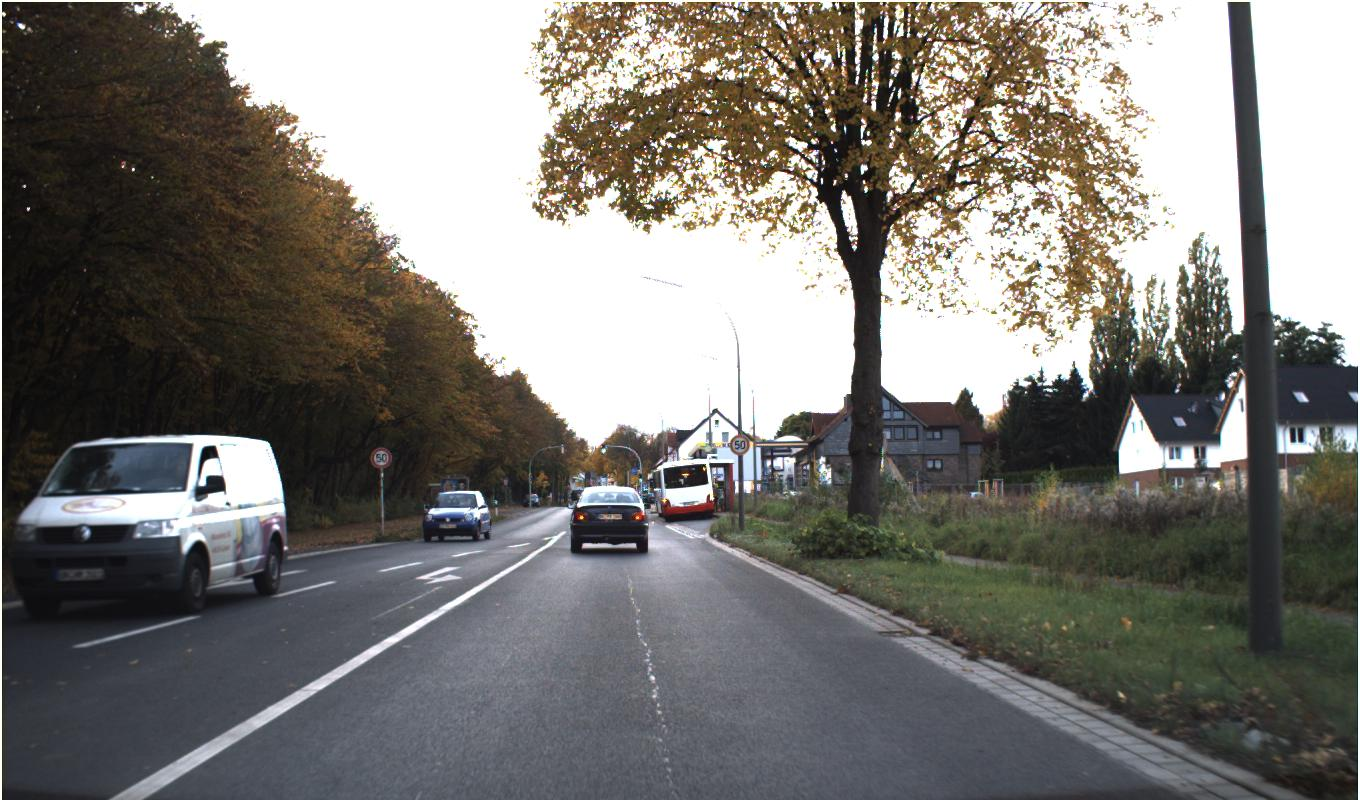prohibitory: (369, 446, 392, 469), (729, 433, 750, 455)
